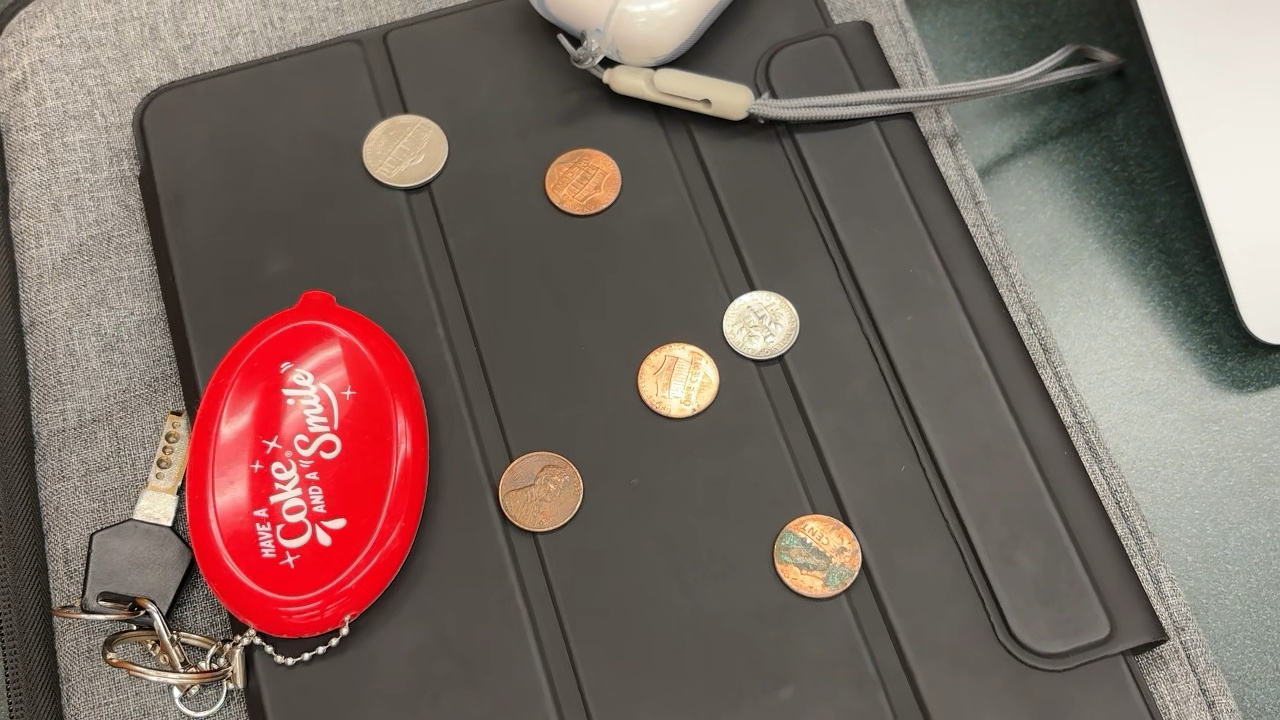dime: (358, 114, 451, 190)
nickel: (723, 289, 800, 359)
penny: (493, 448, 584, 536), (635, 340, 723, 424), (776, 515, 862, 598), (541, 143, 630, 222)
